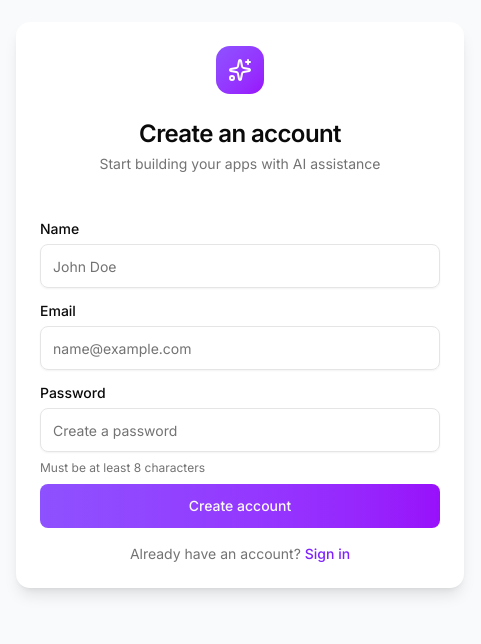
Test case: SignupPage › shows error message on failed signup
Type "Test User" into the field labelled "Name".
click(240, 266); type("Test User")  # box [40,244,440,288]
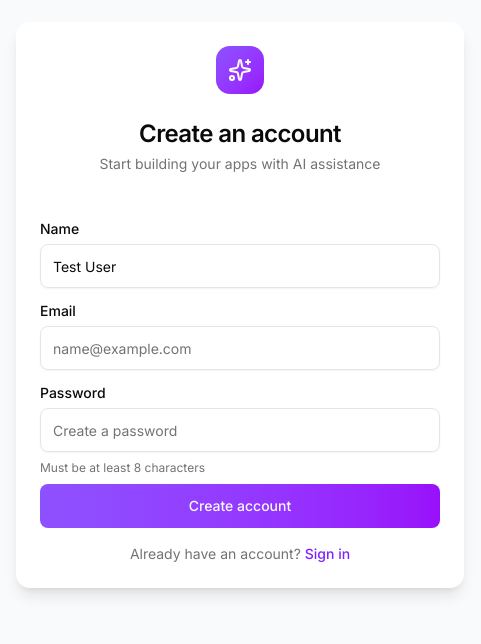
Type "existing@example.com" into the field labelled "Email".
click(240, 348); type("existing@example.com")  # box [40,326,440,370]
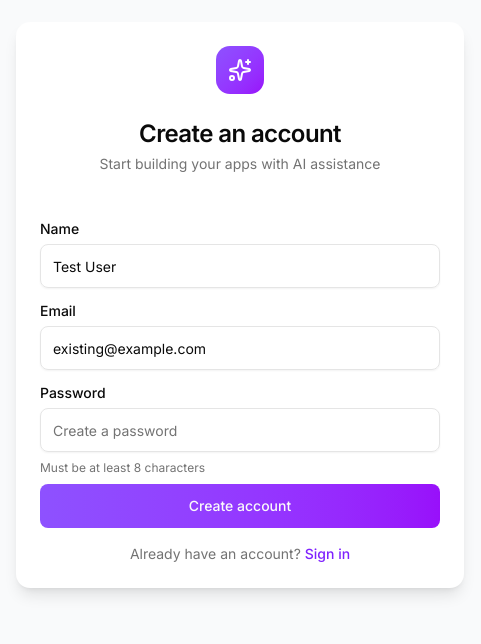
Type "password123" into the password field labelled "Password".
click(240, 430); type("password123")  # box [40,408,440,452]
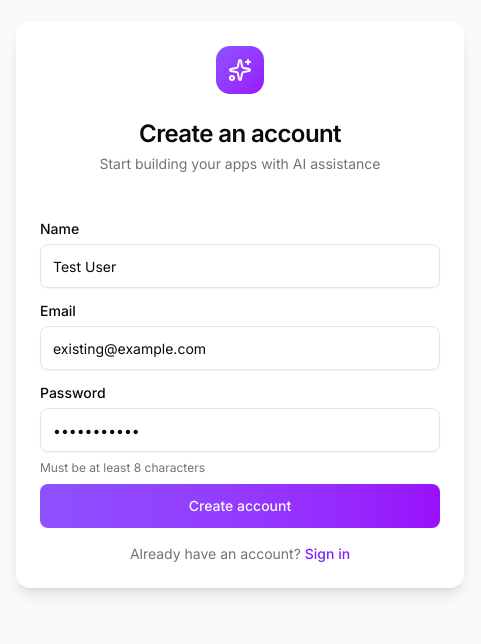
Click the button "Create account".
click(240, 506)  # box [40,484,440,528]
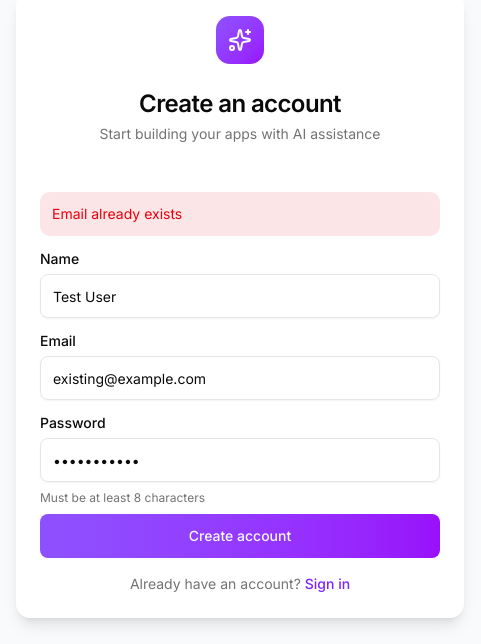
Expected: the text "Email already exists" is shown, [40,192,440,236]
